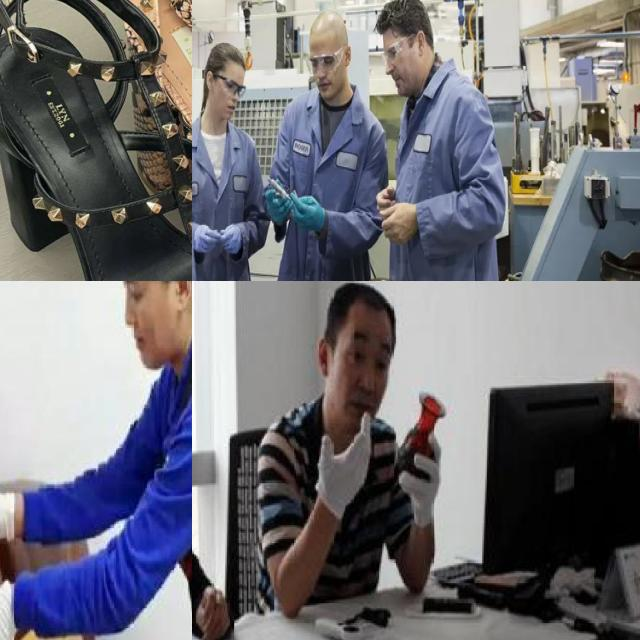No_Ear-Protection: (169, 281, 192, 309), (417, 30, 425, 56), (206, 71, 214, 91), (345, 46, 352, 66)
No_Glasses: (116, 281, 151, 315)
Sandals: (0, 0, 192, 281)
face_nomask: (109, 281, 182, 368), (328, 322, 393, 416), (385, 36, 424, 98), (314, 56, 349, 98), (212, 79, 238, 124)
glasses: (306, 47, 345, 75), (213, 72, 245, 100), (385, 35, 414, 63)
hand_glove: (313, 408, 375, 510), (399, 432, 444, 520), (290, 192, 325, 232), (265, 190, 293, 226), (193, 225, 222, 252), (220, 223, 242, 254)
hand_noglove: (376, 186, 418, 245), (192, 583, 225, 640)
head_nohelmet: (330, 281, 401, 332), (202, 42, 245, 112), (375, 0, 434, 49), (312, 10, 348, 45)
person: (0, 281, 192, 640), (251, 281, 432, 608)
